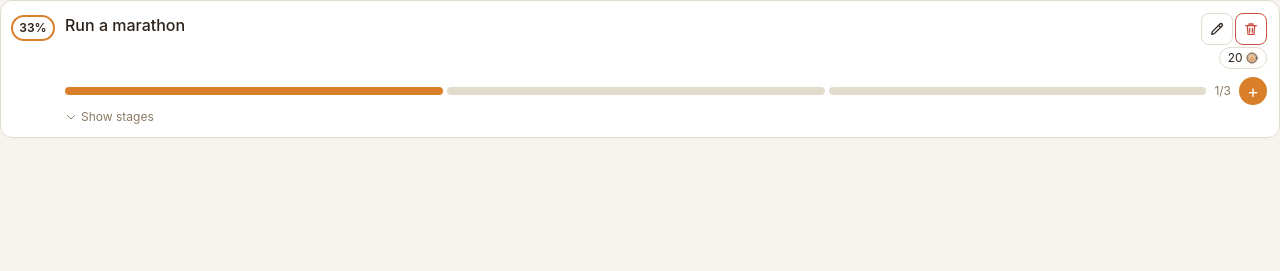
GoalCard: multi-stage goal › the stage list is collapsed by default and opens on demand
The width and height of the screenshot is (1280, 271).
What coordinates should you click on to do the following:
click the button with test id "goal-expand"
I would click on:
 (109, 117)
Its box is x1=65 y1=109 x2=154 y2=125.
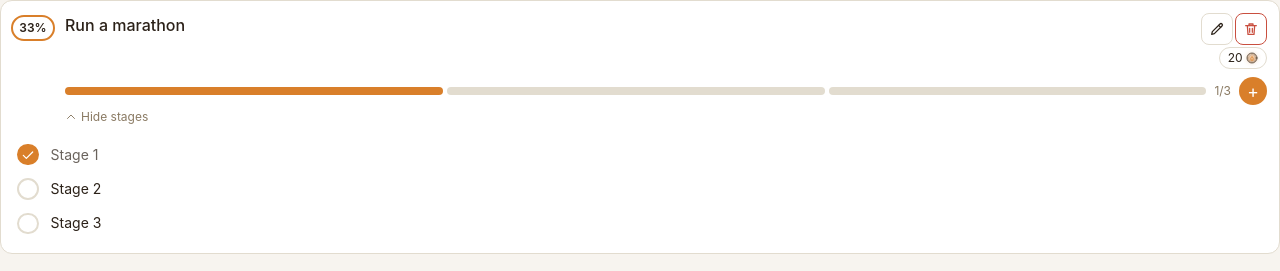
Result: the button with test id "goal-expand" is expanded at x1=65 y1=109 x2=148 y2=125
